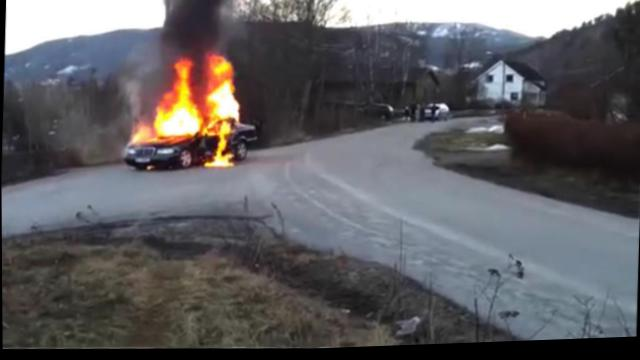fire: (154, 105, 202, 139), (209, 82, 240, 124), (172, 63, 193, 106), (207, 58, 235, 84), (207, 153, 232, 169), (217, 122, 232, 136), (203, 124, 218, 138), (217, 138, 224, 154)
